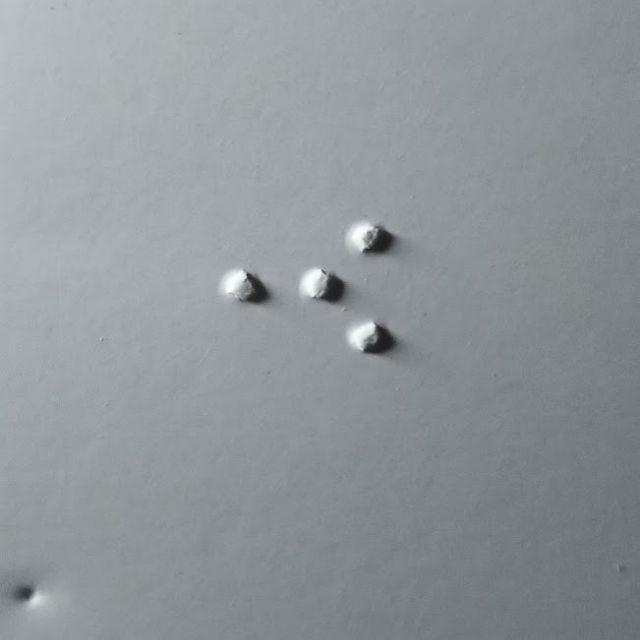dot_5: (167, 218, 260, 352)
wakas: (298, 221, 392, 355)
